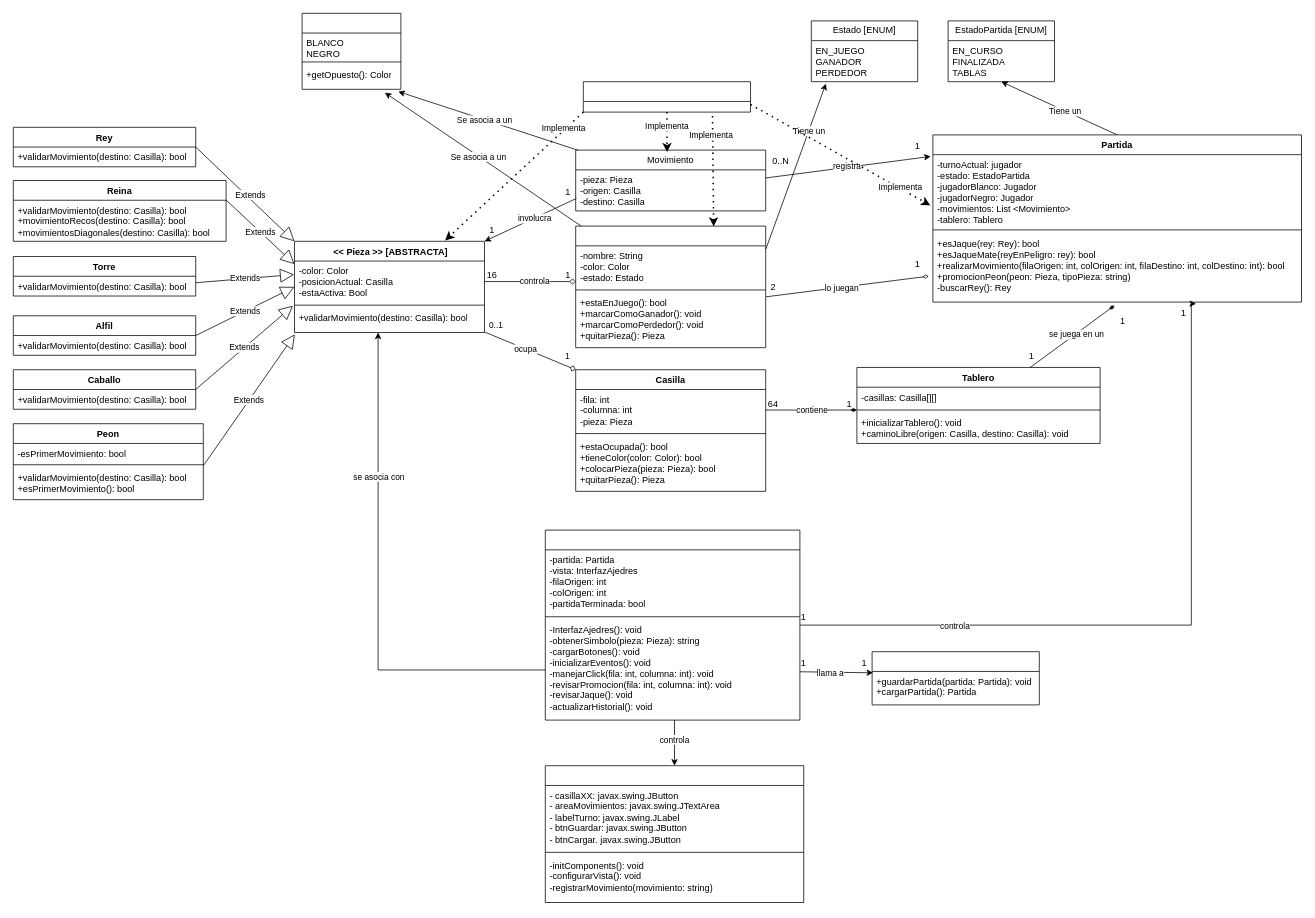
The diagram is 1315 pixels wide and 918 high, and some of its shapes have lost their labels. The box of each missing label's shape, as (x1, y1, x2, y2) in pixels:
Color [ENUM]: (301, 13, 401, 89)
ControladorAjedrez: (545, 529, 800, 720)
GestorArchivos: (871, 651, 1039, 705)
InterfazAjedrez: (545, 765, 804, 902)
Jugador: (575, 225, 766, 348)
Serializable: (583, 81, 750, 112)
